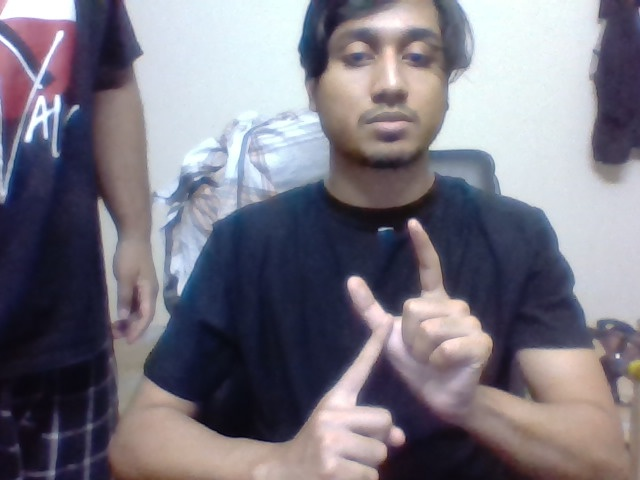Y: (329, 214, 446, 384)
